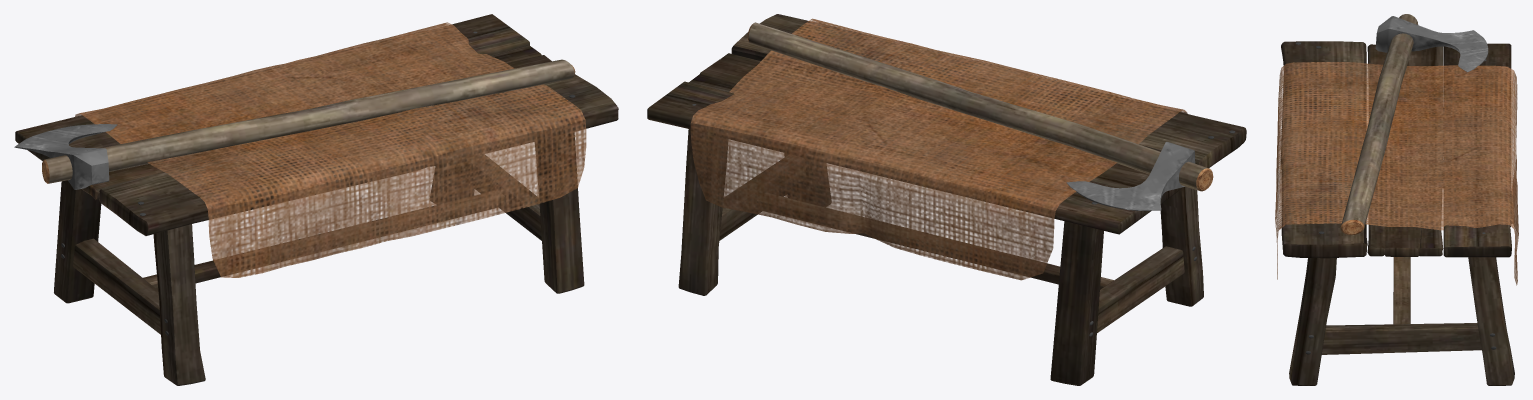
Rendered from val_longbench.glb.
3 views of the same model, side by side, from view 1: azimuth 30°, elevation 25°; view 2: azimuth 150°, elevation 25°; view 3: azimuth 270°, elevation 25° (orthographic). The views are drawn at different scales.
Visible parts, largest first — view 1: KB3D_VAL_BldgSM_K_BenchA; view 2: KB3D_VAL_BldgSM_K_BenchA; view 3: KB3D_VAL_BldgSM_K_BenchA.
Boxes of the visible parts, left/top/right/bottom form: KB3D_VAL_BldgSM_K_BenchA: left=14, top=14, right=618, bottom=385; KB3D_VAL_BldgSM_K_BenchA: left=647, top=14, right=1246, bottom=385; KB3D_VAL_BldgSM_K_BenchA: left=1275, top=14, right=1518, bottom=385.
Bounding box in the file's own units: 1.29 × 0.4892 × 0.6099.
Materials: 6 (6 with a texture image).
